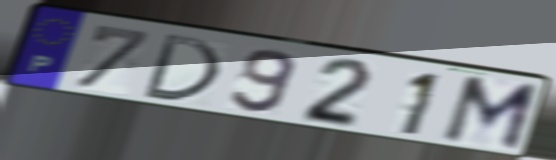1: (400, 70, 444, 137)
2: (298, 56, 374, 131)
7: (74, 22, 153, 92)
9: (228, 48, 298, 116)
D: (138, 31, 224, 105)
M: (437, 74, 545, 155)
